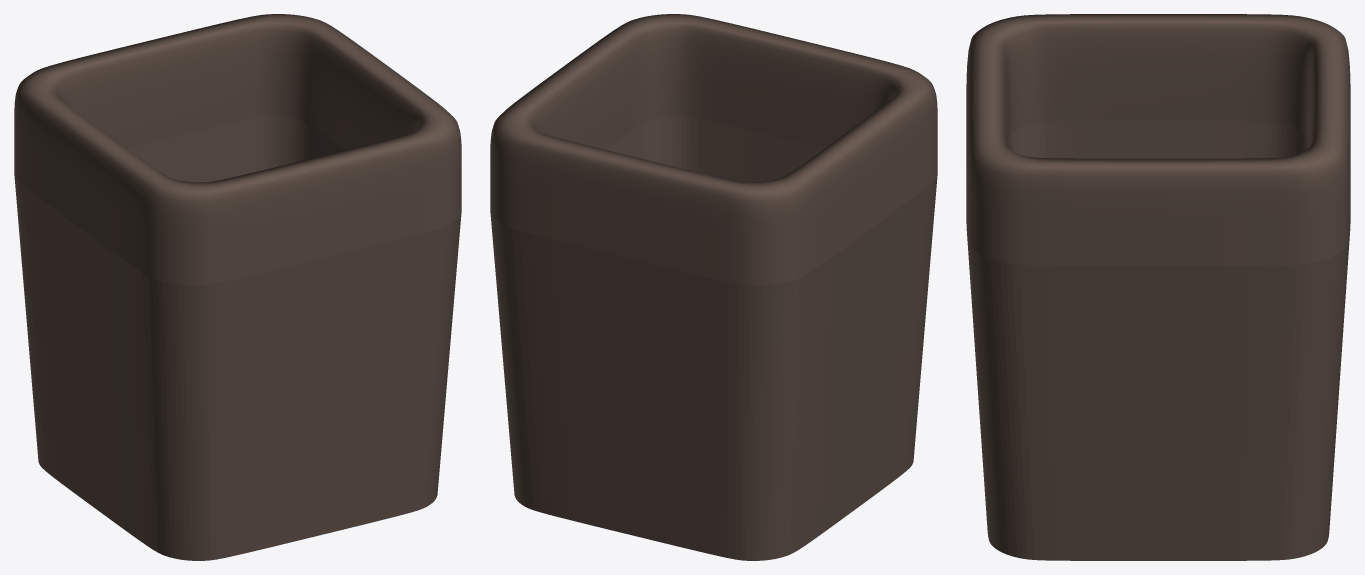
Rendered from hole update.fbx.
3 renders of one model, left to right at view 1: azimuth 30°, elevation 25°; view 2: azimuth 150°, elevation 25°; view 3: azimuth 270°, elevation 25°, orthographic. The views are drawn at different scales.
Visible parts, largest first — view 1: pPlane2; view 2: pPlane2; view 3: pPlane2.
Boxes of the visible parts, <box> form: pPlane2: <box>14,14,461,560</box>; pPlane2: <box>490,14,937,560</box>; pPlane2: <box>966,14,1350,560</box>.
Size of the model in its own units: 370 by 421 by 370.
